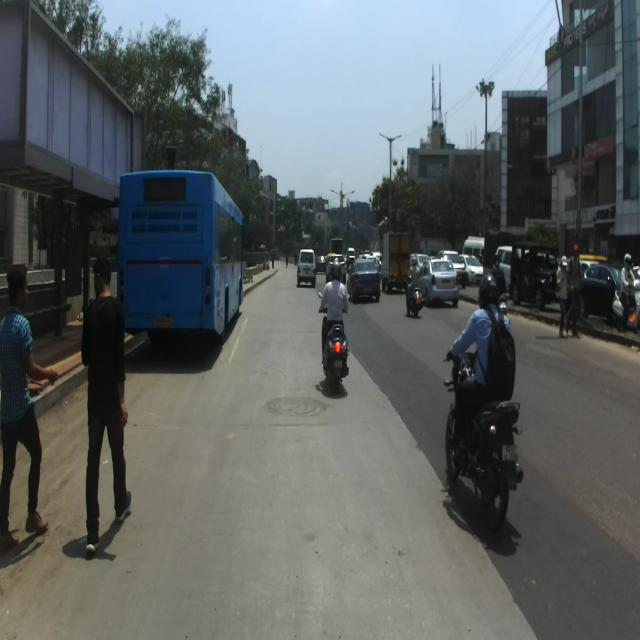bus ahead at: (124, 176, 242, 344)
motorcycle ahead at: (440, 335, 523, 526), (319, 298, 350, 401)
person ahead at: (83, 254, 132, 548), (2, 264, 50, 554)
